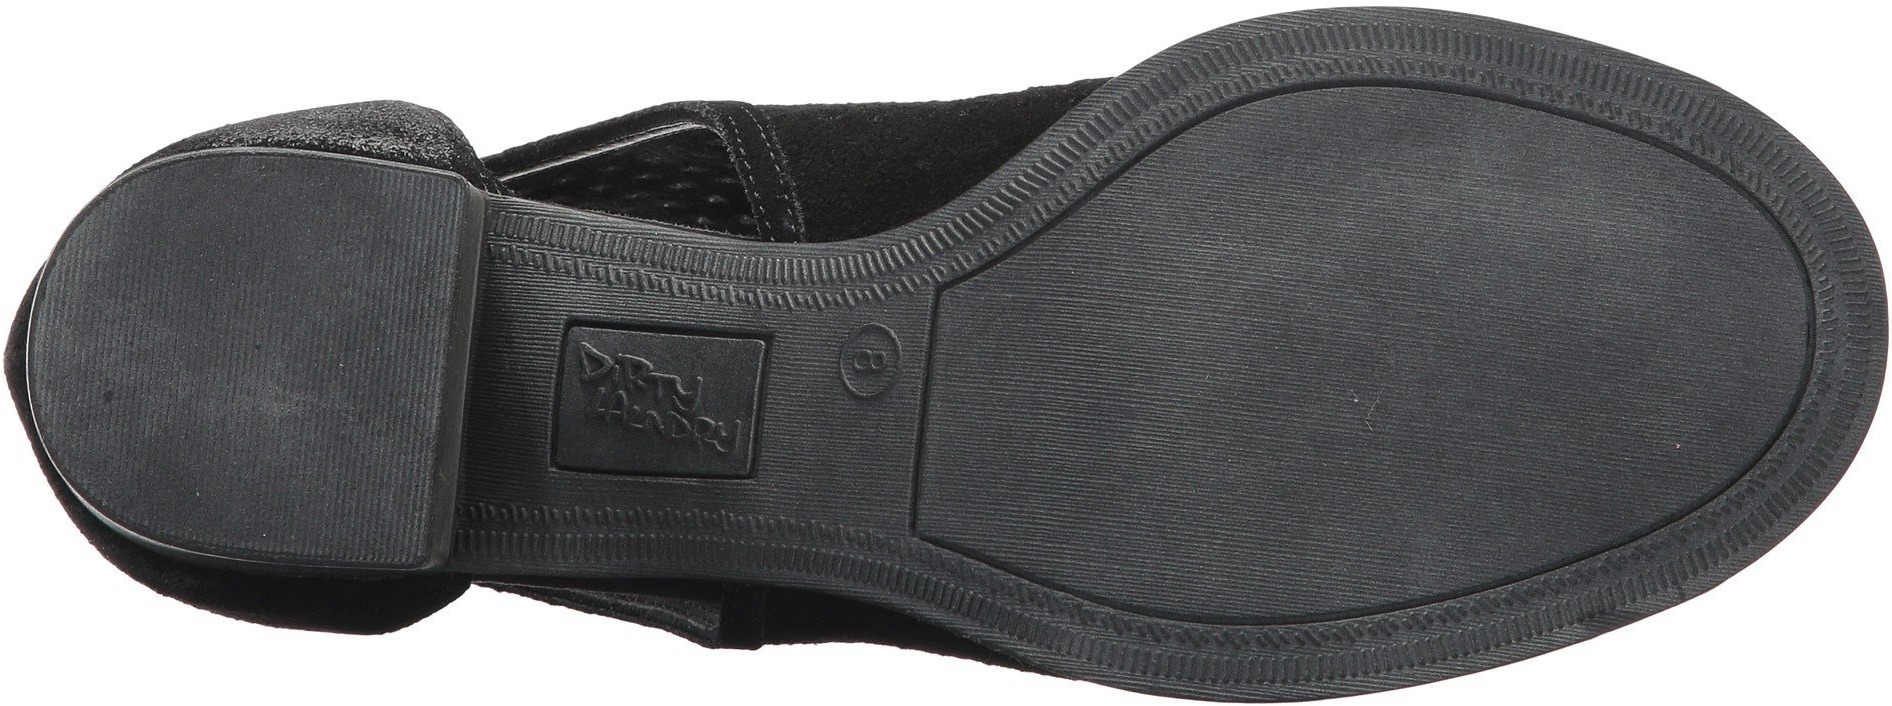other: (1173, 372, 1431, 590), (1394, 132, 1616, 357), (1168, 145, 1389, 367), (953, 293, 1169, 504), (39, 259, 258, 440), (255, 177, 440, 362), (1438, 362, 1627, 533), (263, 367, 424, 508), (1640, 234, 1797, 378), (1630, 385, 1732, 488)
text: (582, 339, 751, 479), (846, 343, 892, 389)
